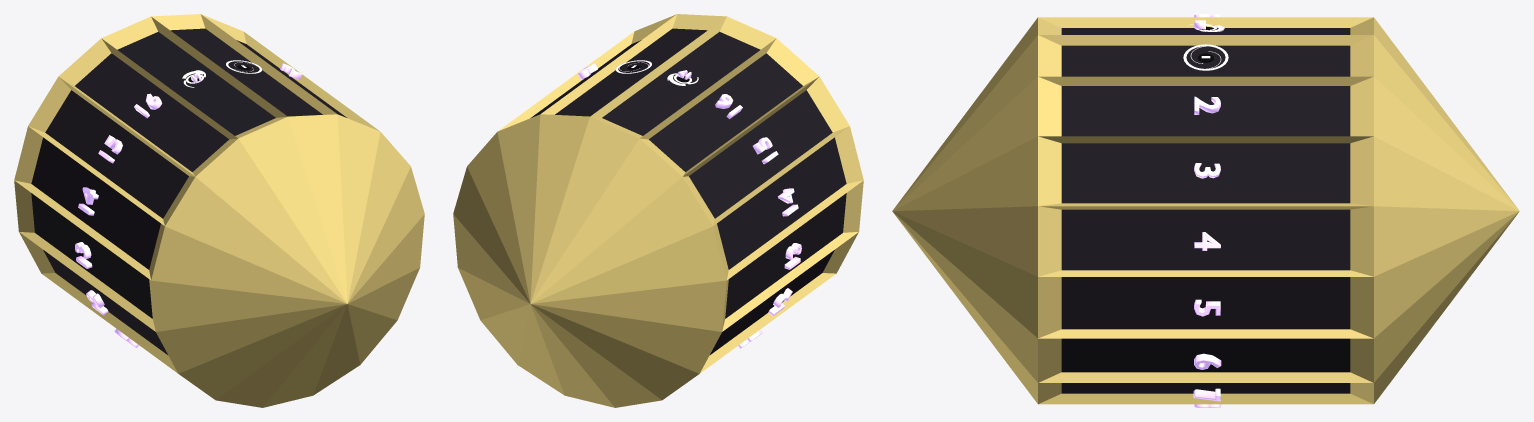
Rendered from d17_black_hole_gold.glb.
The picture shows the model from 3 angles, left to right: view 1: azimuth 30°, elevation 25°; view 2: azimuth 150°, elevation 25°; view 3: azimuth 270°, elevation 25°; orthographic projection. The views are drawn at different scales.
Visible parts, largest first — view 1: D17_BlackHole_Gold; view 2: D17_BlackHole_Gold; view 3: D17_BlackHole_Gold.
Part boxes in pixels (box(x1,y1,x2,y2)): D17_BlackHole_Gold: box(14, 14, 424, 407); D17_BlackHole_Gold: box(453, 14, 863, 407); D17_BlackHole_Gold: box(892, 14, 1519, 407).
Size of the model in its own units: 4.45 by 4.42 by 7.1.
